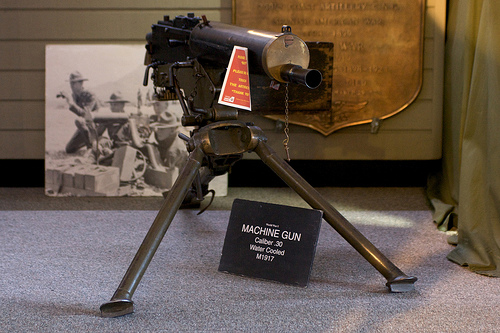rifle: (154, 7, 334, 119)
